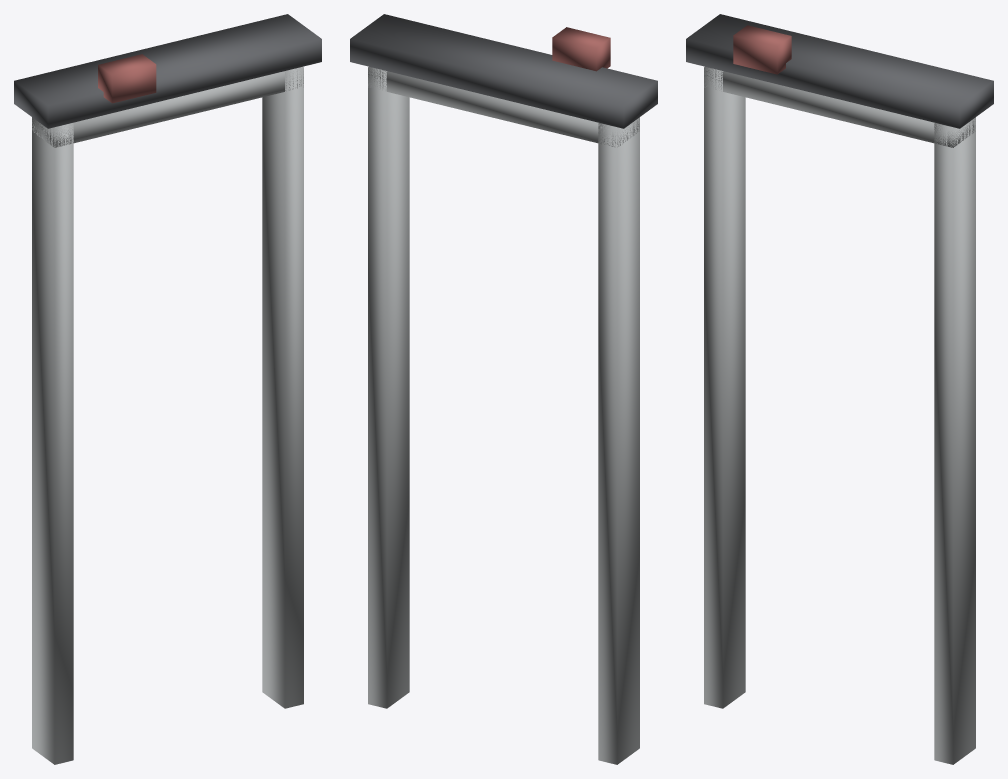
File: doorway_fire_rated_w86_h240_d16.glb
3 views of the same model, side by side, from view 1: azimuth 30°, elevation 25°; view 2: azimuth 150°, elevation 25°; view 3: azimuth 330°, elevation 25° (orthographic).
Visible parts, largest first — view 1: world; view 2: world; view 3: world.
Boxes of the visible parts, x1=… form: world: x1=14, y1=14, x2=321, y2=764; world: x1=350, y1=14, x2=657, y2=764; world: x1=686, y1=14, x2=993, y2=764.
Size of the model in its own units: 1.11 by 2.68 by 0.3.
